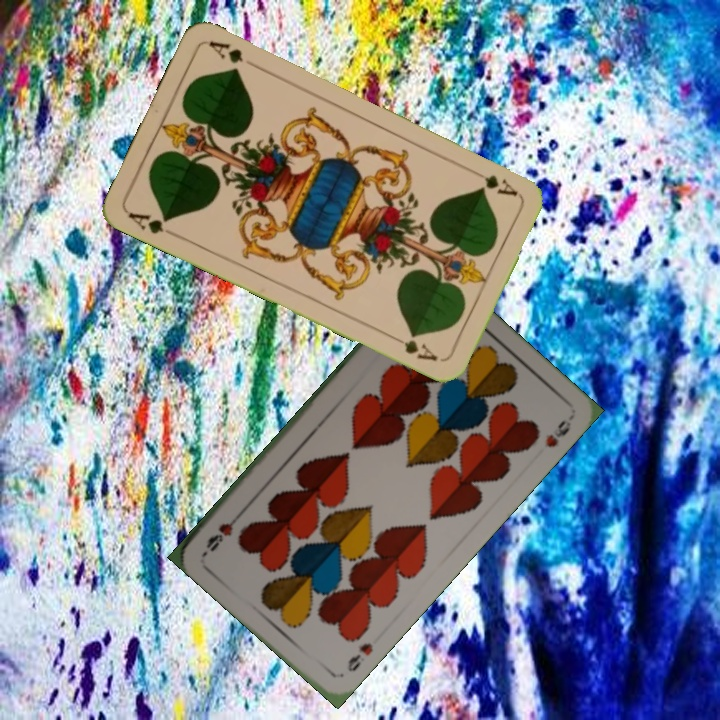GA: (466, 164, 521, 199), (124, 208, 181, 240)
H9: (343, 638, 376, 675)
